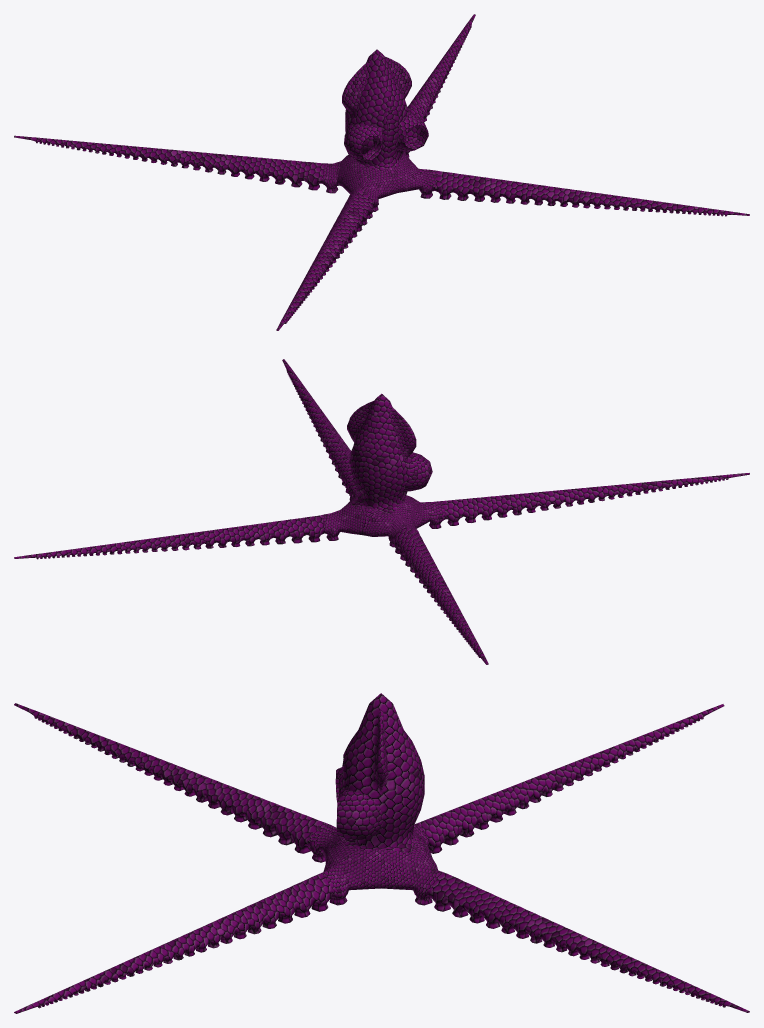
The model's file is Squid_Obj2.obj.
3 renders of one model, top to bottom at view 1: azimuth 30°, elevation 25°; view 2: azimuth 150°, elevation 25°; view 3: azimuth 270°, elevation 25°, orthographic. The views are drawn at different scales.
Visible parts, largest first — view 1: Kraken_Body_Geo Kraken_Geo Tentacle; view 2: Kraken_Body_Geo Kraken_Geo Tentacle; view 3: Kraken_Body_Geo Kraken_Geo Tentacle.
Part boxes in pixels (left/top/right/bottom): Kraken_Body_Geo Kraken_Geo Tentacle: left=14, top=14, right=749, bottom=330; Kraken_Body_Geo Kraken_Geo Tentacle: left=14, top=359, right=749, bottom=664; Kraken_Body_Geo Kraken_Geo Tentacle: left=14, top=693, right=749, bottom=1013.
Bounding box in the file's own units: 10.18 × 2.82 × 10.23.
Materials: 1 (1 with a texture image).
